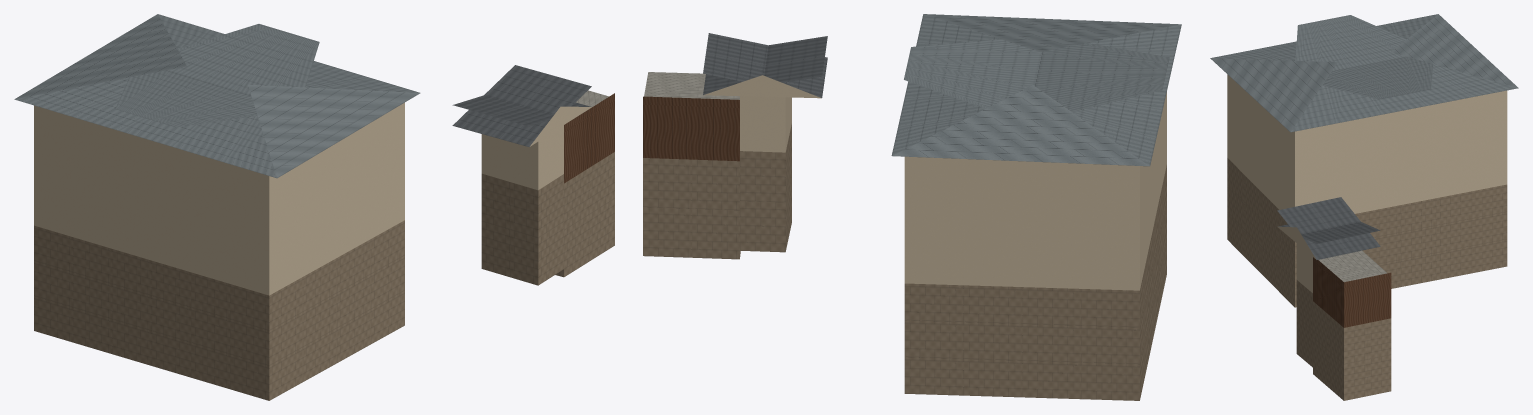
Rendered from bld_c21_31_379.gltf.
3 renders of one model, left to right at view 1: azimuth 30°, elevation 25°; view 2: azimuth 150°, elevation 25°; view 3: azimuth 270°, elevation 25°, orthographic. The views are drawn at different scales.
Visible parts, largest first — view 1: bld_c21_31_379; view 2: bld_c21_31_379; view 3: bld_c21_31_379.
Part boxes in pixels (x1,y1,x2,y2): bld_c21_31_379: [14, 14, 614, 400]; bld_c21_31_379: [643, 14, 1181, 400]; bld_c21_31_379: [1210, 14, 1518, 400].
Bounding box in the file's own units: 27.35 × 12.3 × 17.4.
8 materials, 8 textured.
